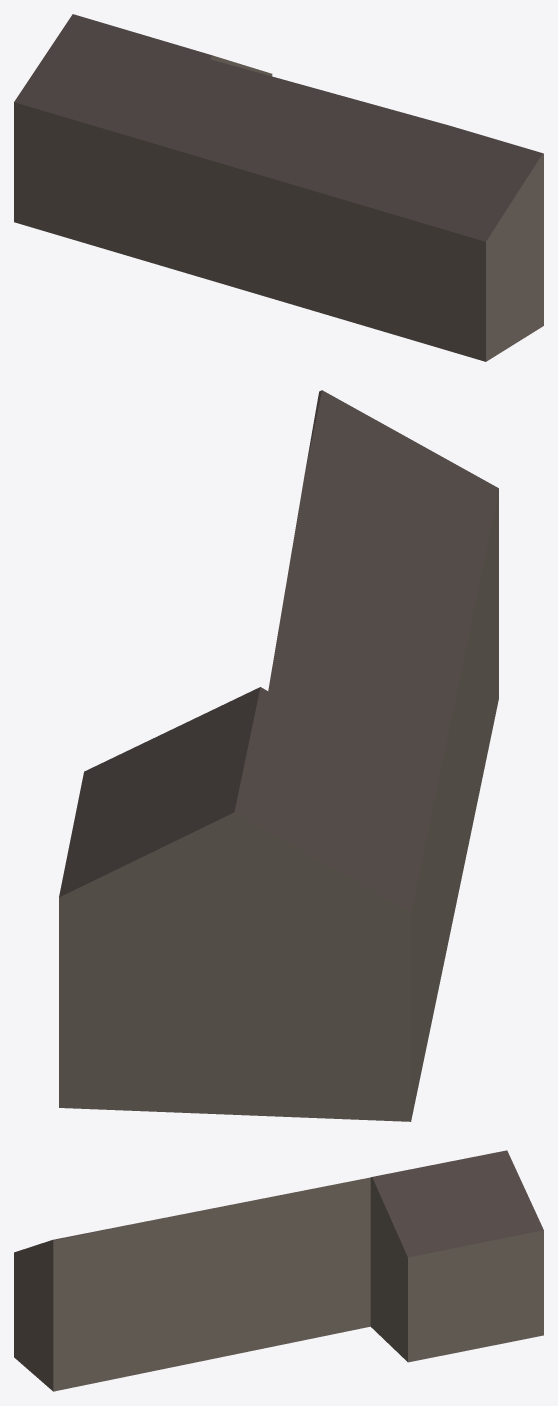
The picture shows the model from 3 angles, top to bottom: view 1: azimuth 30°, elevation 25°; view 2: azimuth 150°, elevation 25°; view 3: azimuth 270°, elevation 25°; orthographic projection. The views are drawn at different scales.
Visible parts, largest first — view 1: HP-w734452869; view 2: HP-w734452869; view 3: HP-w734452869.
Part boxes in pixels (x1=…): HP-w734452869: x1=14, y1=14, x2=543, y2=361; HP-w734452869: x1=59, y1=390, x2=498, y2=1121; HP-w734452869: x1=14, y1=1150, x2=543, y2=1391.
Bounding box in the file's own units: 15.24 × 8.66 × 27.49.
